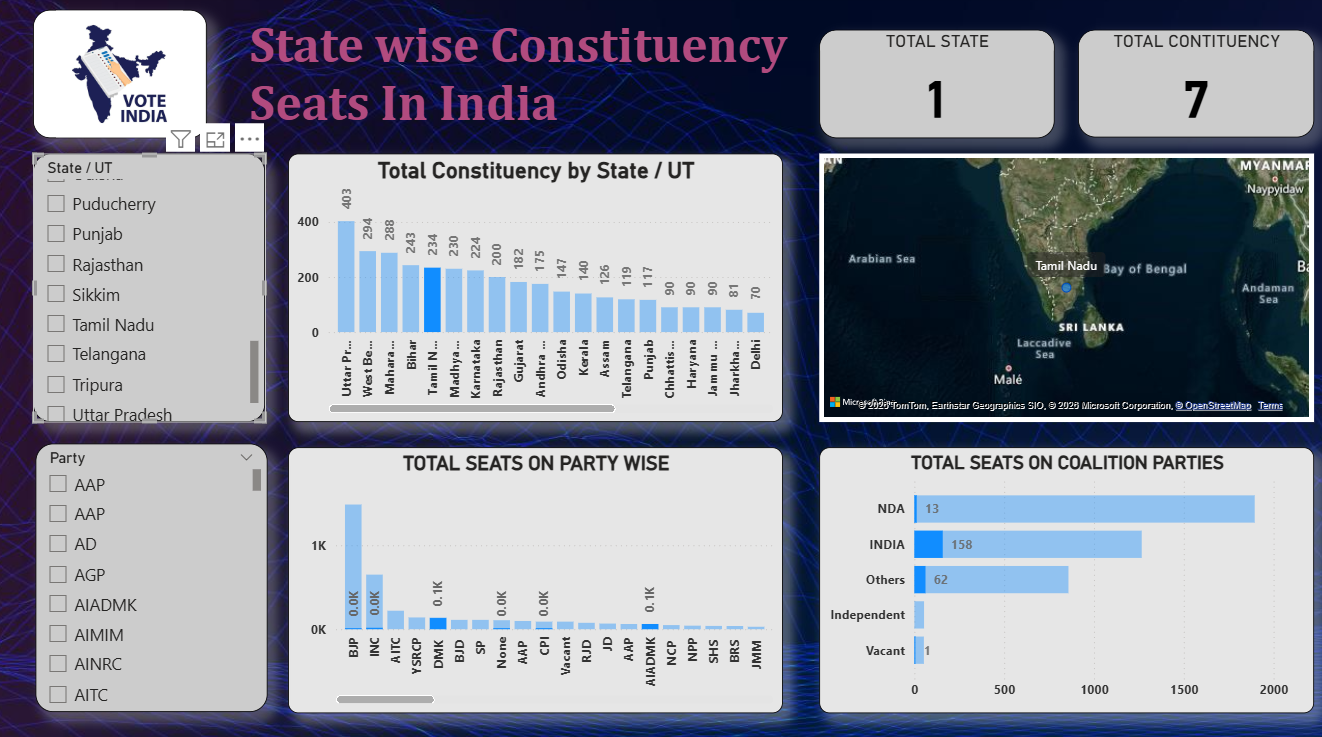

Layout of this report page (visuals, bound fields, positions):
{"tool":"powerbi","page":{"name":"Page 1","canvas":[1280,720],"ordinal":0},"visuals":[{"type":"card","title":"TOTAL STATE","fields":{"Values":["Count(Data.State / UT)"]},"box":[792.6,32.6,226.8,105],"z":0},{"type":"card","title":"TOTAL CONTITUENCY","fields":{"Values":["Count(Data.Total Constituency)"]},"box":[1042.4,32.6,228,103.8],"z":1000},{"type":"columnChart","title":"Total Constituency by State / UT","fields":{"Category":["Data.State / UT"],"Y":["Sum(Data.Total Constituency)"]},"box":[279.9,152.3,477.5,259.3],"z":2000},{"type":"map","fields":{"Category":["Data.State / UT"]},"box":[793.1,152.3,477.5,259.3],"z":3000},{"type":"columnChart","title":"TOTAL SEATS ON PARTY WISE","fields":{"Y":["Sum(Data.Total Constituency)"],"Category":["Data.Party"]},"box":[279.9,435,477.5,256.6],"z":4000},{"type":"clusteredBarChart","title":"TOTAL SEATS ON COALITION PARTIES","fields":{"Category":["Data.NDA / INDI"],"Y":["Sum(Data.Total Constituency)"]},"box":[793.1,435,477.5,256.6],"z":5000},{"type":"slicer","fields":{"Values":["Data.State / UT"]},"box":[34.3,152.3,223.7,259.3],"z":6000},{"type":"slicer","fields":{"Values":["Data.Party"]},"box":[35.7,432.2,223.7,259.3],"z":7000},{"type":"textbox","box":[237.4,13.7,544.8,138.6],"z":8000},{"type":"image","box":[33.8,13.3,167.7,124.3],"z":9000}]}

Visuals, with their boxes in screenshot pixels (x1, y1, x2, y2), scaled from the page's 1280x720 canvas onto the 1322x737 screenshot:
"TOTAL STATE" card: pyautogui.locateOnScreen(819, 33, 1053, 141)
"TOTAL CONTITUENCY" card: pyautogui.locateOnScreen(1077, 33, 1312, 140)
"Total Constituency by State / UT" columnChart: pyautogui.locateOnScreen(289, 156, 782, 421)
map - Data.State / UT: pyautogui.locateOnScreen(819, 156, 1312, 421)
"TOTAL SEATS ON PARTY WISE" columnChart: pyautogui.locateOnScreen(289, 445, 782, 708)
"TOTAL SEATS ON COALITION PARTIES" clusteredBarChart: pyautogui.locateOnScreen(819, 445, 1312, 708)
slicer - Data.State / UT: pyautogui.locateOnScreen(35, 156, 266, 421)
slicer - Data.Party: pyautogui.locateOnScreen(37, 442, 268, 708)
textbox: pyautogui.locateOnScreen(245, 14, 808, 156)
image: pyautogui.locateOnScreen(35, 14, 208, 141)
